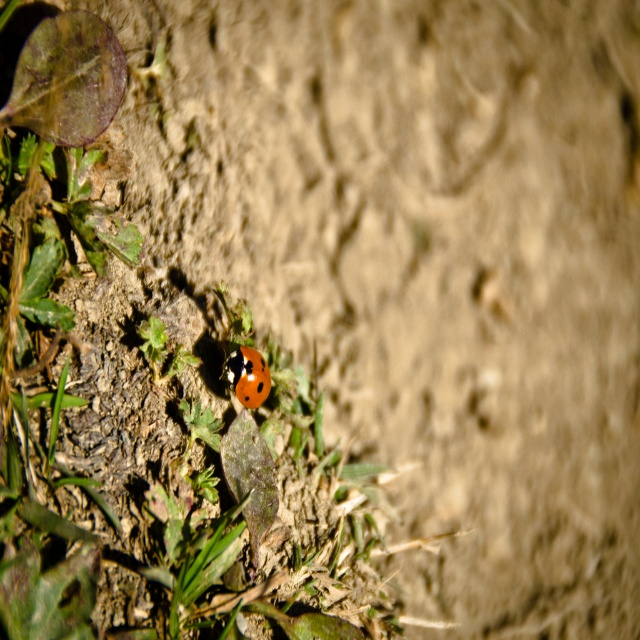Ladybug: (220, 328, 270, 412)
